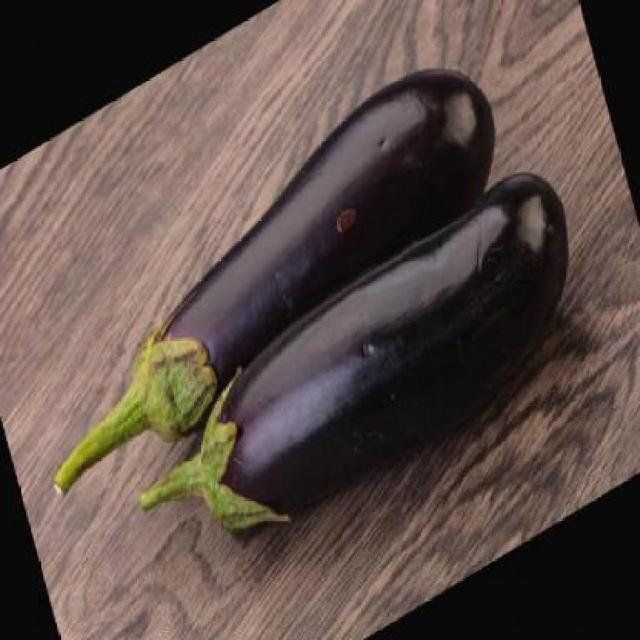eggplant: (86, 49, 526, 517), (132, 166, 576, 547)
